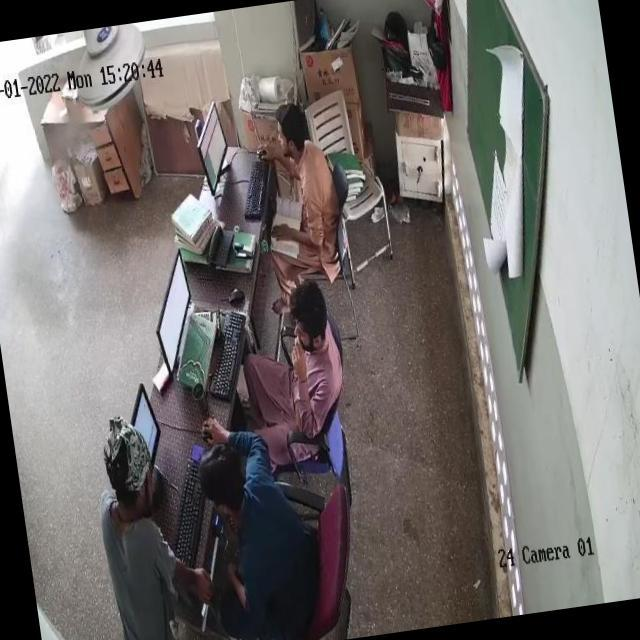person: (198, 413, 316, 618), (89, 407, 182, 640), (241, 272, 353, 428), (262, 102, 342, 278)
